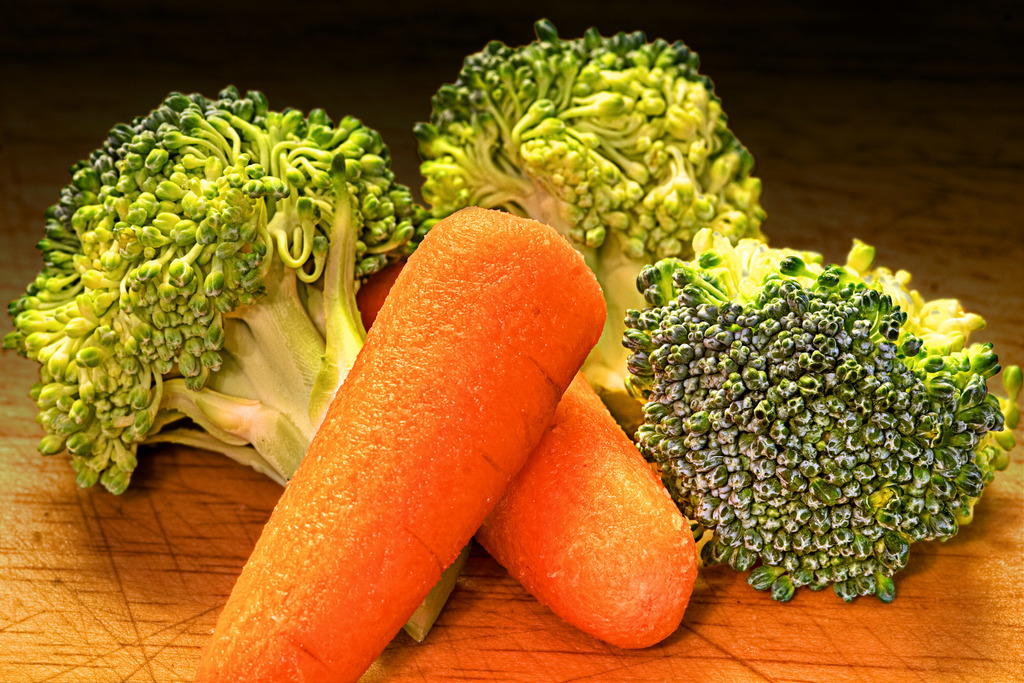Carrot: (193, 205, 608, 683), (355, 261, 699, 651)
